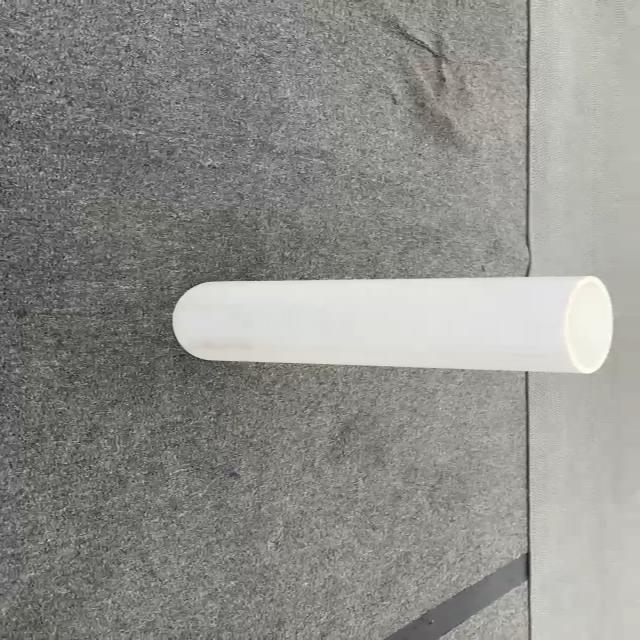coral: (171, 274, 614, 374)
